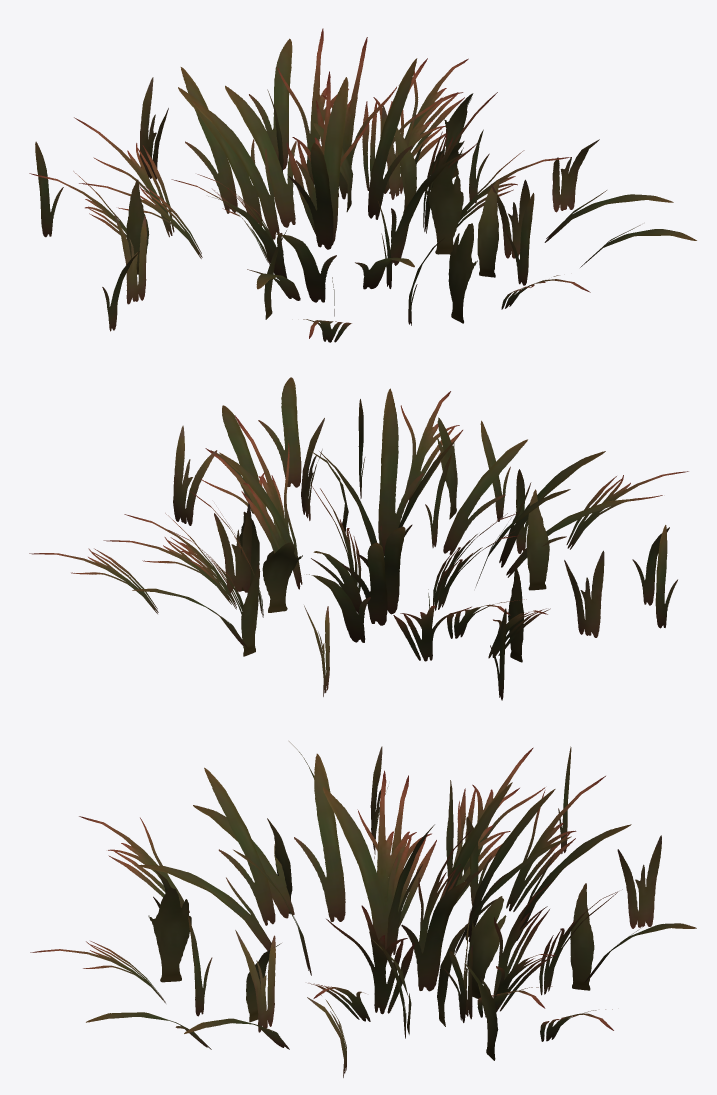
3 renders of one model, top to bottom at view 1: azimuth 30°, elevation 25°; view 2: azimuth 150°, elevation 25°; view 3: azimuth 270°, elevation 25°, orthographic. The views are drawn at different scales.
Parts seen in each view (by area): view 1: SM_US_Sedge_03_LOD0; view 2: SM_US_Sedge_03_LOD0; view 3: SM_US_Sedge_03_LOD0.
Boxes of the visible parts, x1,y1,x2,y2 form: SM_US_Sedge_03_LOD0: (29, 28, 696, 342); SM_US_Sedge_03_LOD0: (29, 377, 688, 700); SM_US_Sedge_03_LOD0: (30, 741, 696, 1077).
Bounding box in the file's own units: 0.8142 × 0.2419 × 0.8657.
Materials: 1 (1 with a texture image).
